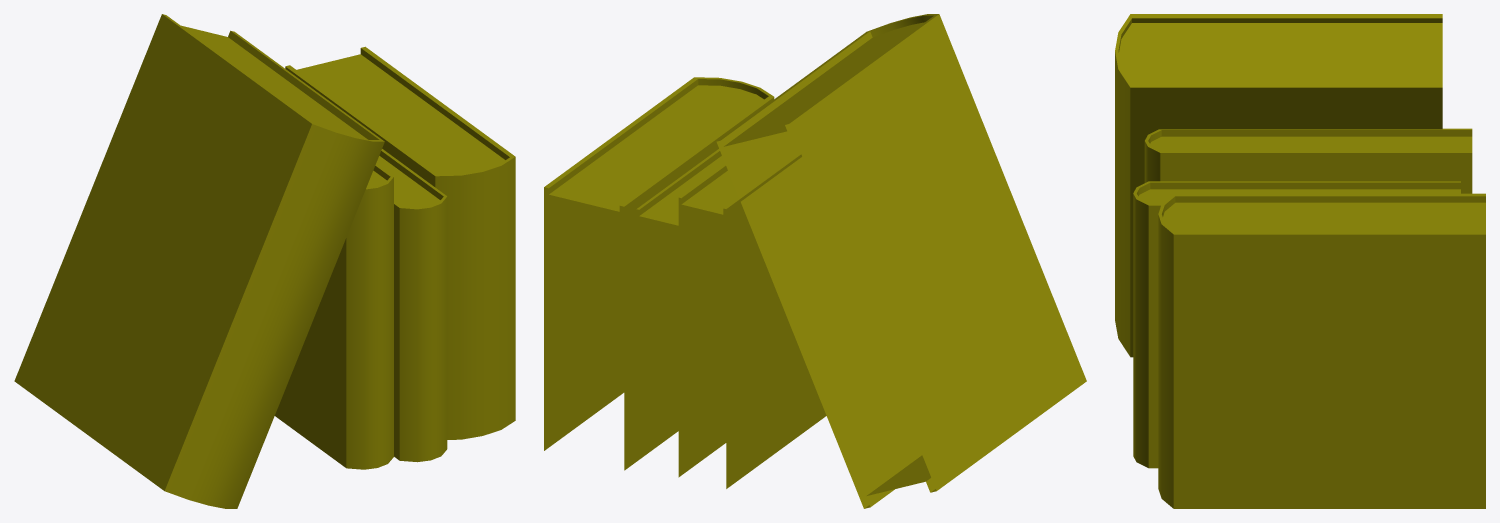
File: HalloweenRoomA_BooksH.fbx
3 renders of one model, left to right at view 1: azimuth 30°, elevation 25°; view 2: azimuth 150°, elevation 25°; view 3: azimuth 270°, elevation 25°, orthographic. The views are drawn at different scales.
Visible parts, largest first — view 1: HalloweenRoomA_BooksH; view 2: HalloweenRoomA_BooksH; view 3: HalloweenRoomA_BooksH.
Boxes of the visible parts, x1,y1,x2,y2 form: HalloweenRoomA_BooksH: [14, 14, 515, 508]; HalloweenRoomA_BooksH: [544, 14, 1086, 508]; HalloweenRoomA_BooksH: [1115, 14, 1485, 508].
Size of the model in its own units: 37.25 by 35.1 by 30.96.
